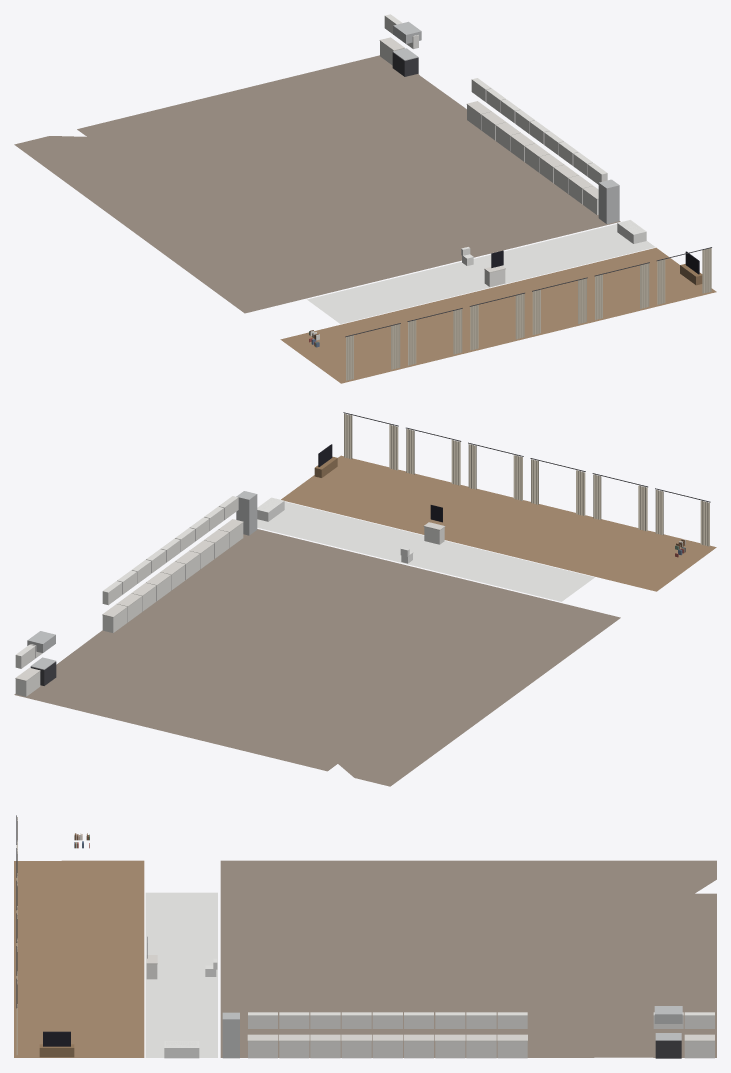
Rendered from fine-s1.glb.
3 views of the same model, one above another, from view 1: azimuth 30°, elevation 25°; view 2: azimuth 150°, elevation 25°; view 3: azimuth 270°, elevation 25° (orthographic). The views are drawn at different scales.
Visible parts, largest first — view 1: soft-s1, range.000, fridge.000, vanity.000; view 2: soft-s1, range.000, fridge.000, vanity.000; view 3: soft-s1, range.000, tv-console.001, fridge.000, counter-run.002, counter-run.007, counter-run.001, counter-run.003, counter-run.006, counter-run.008, counter-run.000, counter-run.005 (+13 smaller).
Part boxes in pixels (x1,y1,x2,y2): soft-s1: [14, 55, 716, 383]; range.000: [392, 21, 421, 76]; fridge.000: [598, 179, 619, 223]; vanity.000: [484, 250, 505, 286]; soft-s1: [14, 412, 716, 786]; range.000: [27, 631, 56, 685]; fridge.000: [236, 491, 257, 535]; vanity.000: [423, 505, 445, 544]; soft-s1: [14, 815, 716, 1057]; range.000: [654, 1006, 682, 1058]; tv-console.001: [39, 1031, 74, 1057]; fridge.000: [222, 1012, 239, 1058]; counter-run.002: [466, 1034, 496, 1058]; counter-run.007: [310, 1034, 340, 1058]; counter-run.001: [497, 1034, 527, 1058]; counter-run.003: [435, 1034, 465, 1058]; counter-run.006: [341, 1034, 371, 1058]; counter-run.008: [279, 1034, 309, 1058]; counter-run.000: [684, 1034, 714, 1058]; counter-run.005: [372, 1034, 402, 1058].
Size of the model in its own units: 21.86 by 2.51 by 32.68.
